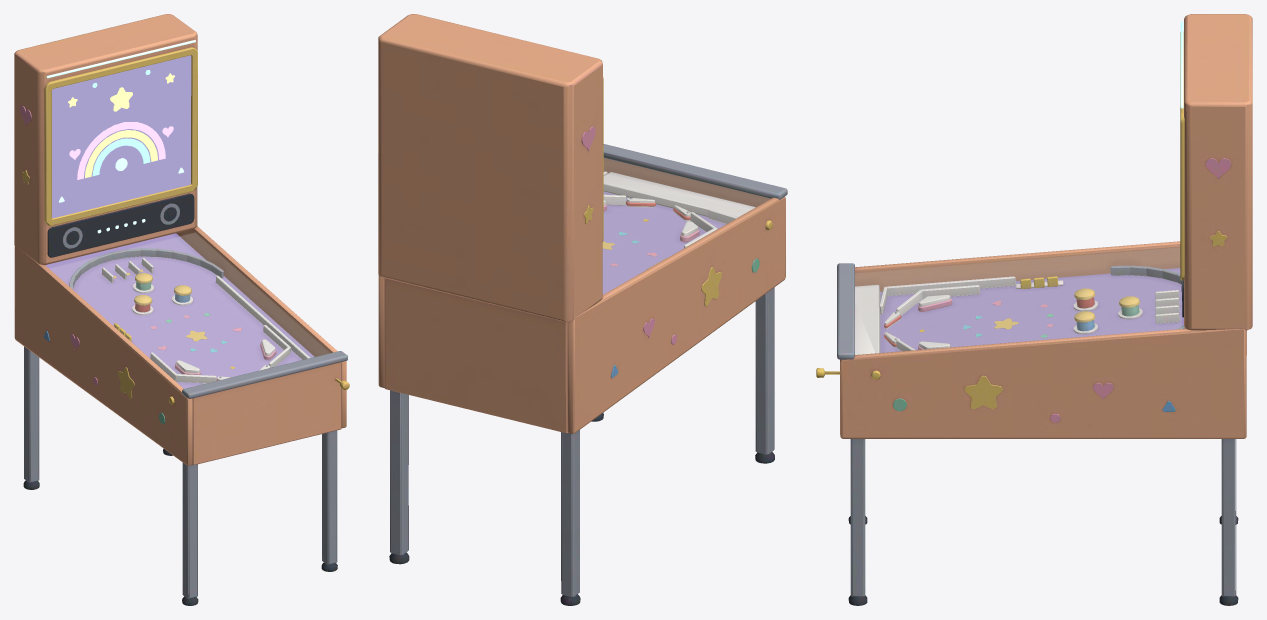
File: pinball.glb
3 renders of one model, left to right at view 1: azimuth 30°, elevation 25°; view 2: azimuth 150°, elevation 25°; view 3: azimuth 270°, elevation 25°, orthographic. The views are drawn at different scales.
Parts seen in each view (by area): view 1: pinball-machine_backglass_glow; view 2: pinball-machine_backglass_glow; view 3: pinball-machine_backglass_glow.
Boxes of the visible parts, x1=… form: pinball-machine_backglass_glow: x1=14, y1=14, x2=349, y2=605; pinball-machine_backglass_glow: x1=378, y1=14, x2=787, y2=605; pinball-machine_backglass_glow: x1=816, y1=14, x2=1252, y2=605.
Bounding box in the file's own units: 0.744 × 1.86 × 1.46.
12 materials, 1 textured.
